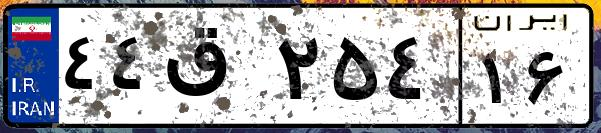1: (475, 38, 525, 113)
2: (270, 28, 330, 110)
4: (385, 28, 445, 110), (57, 26, 110, 100), (110, 28, 158, 98)
5: (330, 28, 385, 110)
6: (525, 38, 570, 115)
ق: (158, 20, 270, 120)
